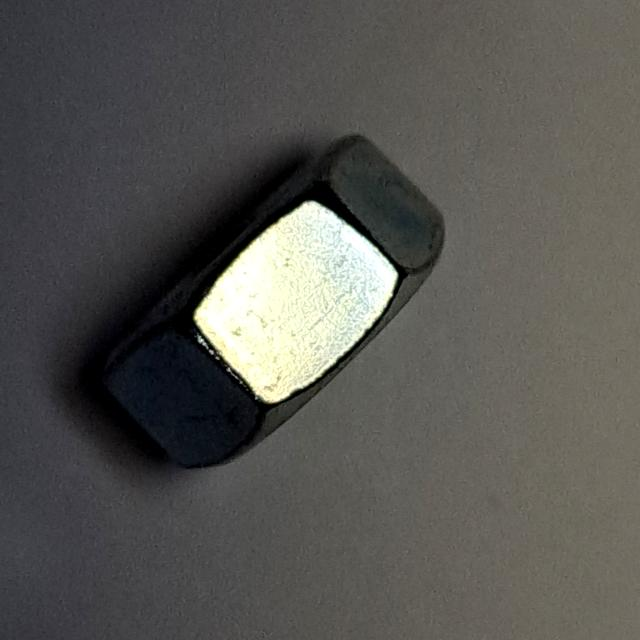Side_Excellent: (70, 115, 458, 492)
